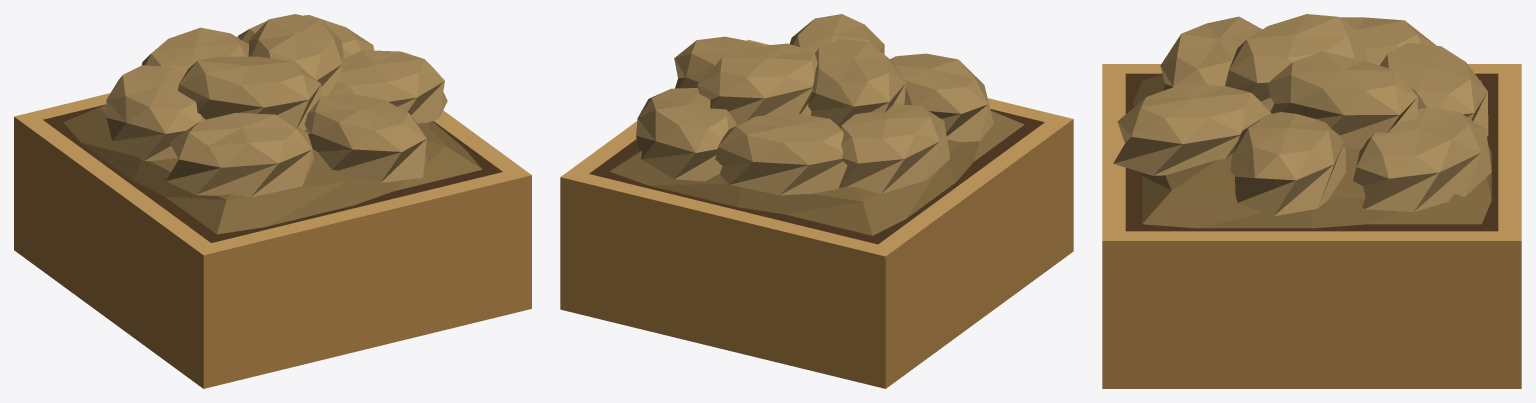
Rendered from item_produce_potatoes_a.obj.
The picture shows the model from 3 angles, left to right: view 1: azimuth 30°, elevation 25°; view 2: azimuth 150°, elevation 25°; view 3: azimuth 270°, elevation 25°; orthographic projection. The views are drawn at different scales.
Bounding box in the file's own units: 0.5724 × 0.3763 × 0.5724.
